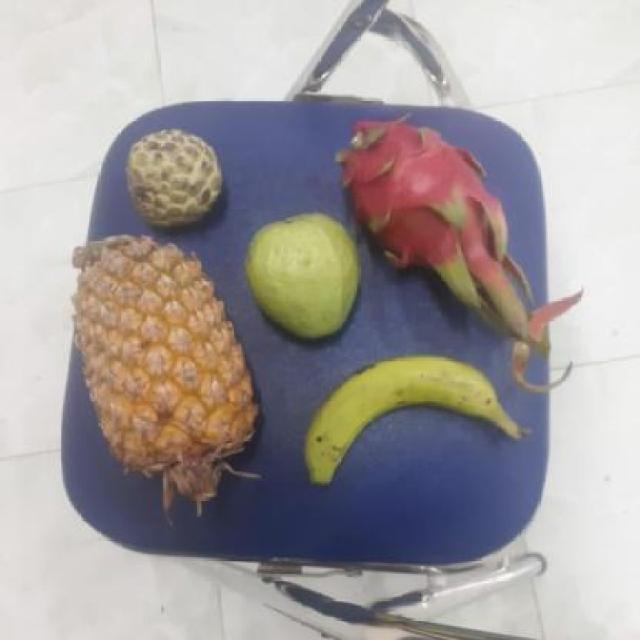banana: (305, 358, 526, 476)
dragon fruit: (344, 118, 502, 278)
guava: (245, 214, 364, 338)
pineapple: (78, 235, 259, 478)
sugar apple: (127, 128, 228, 227)
